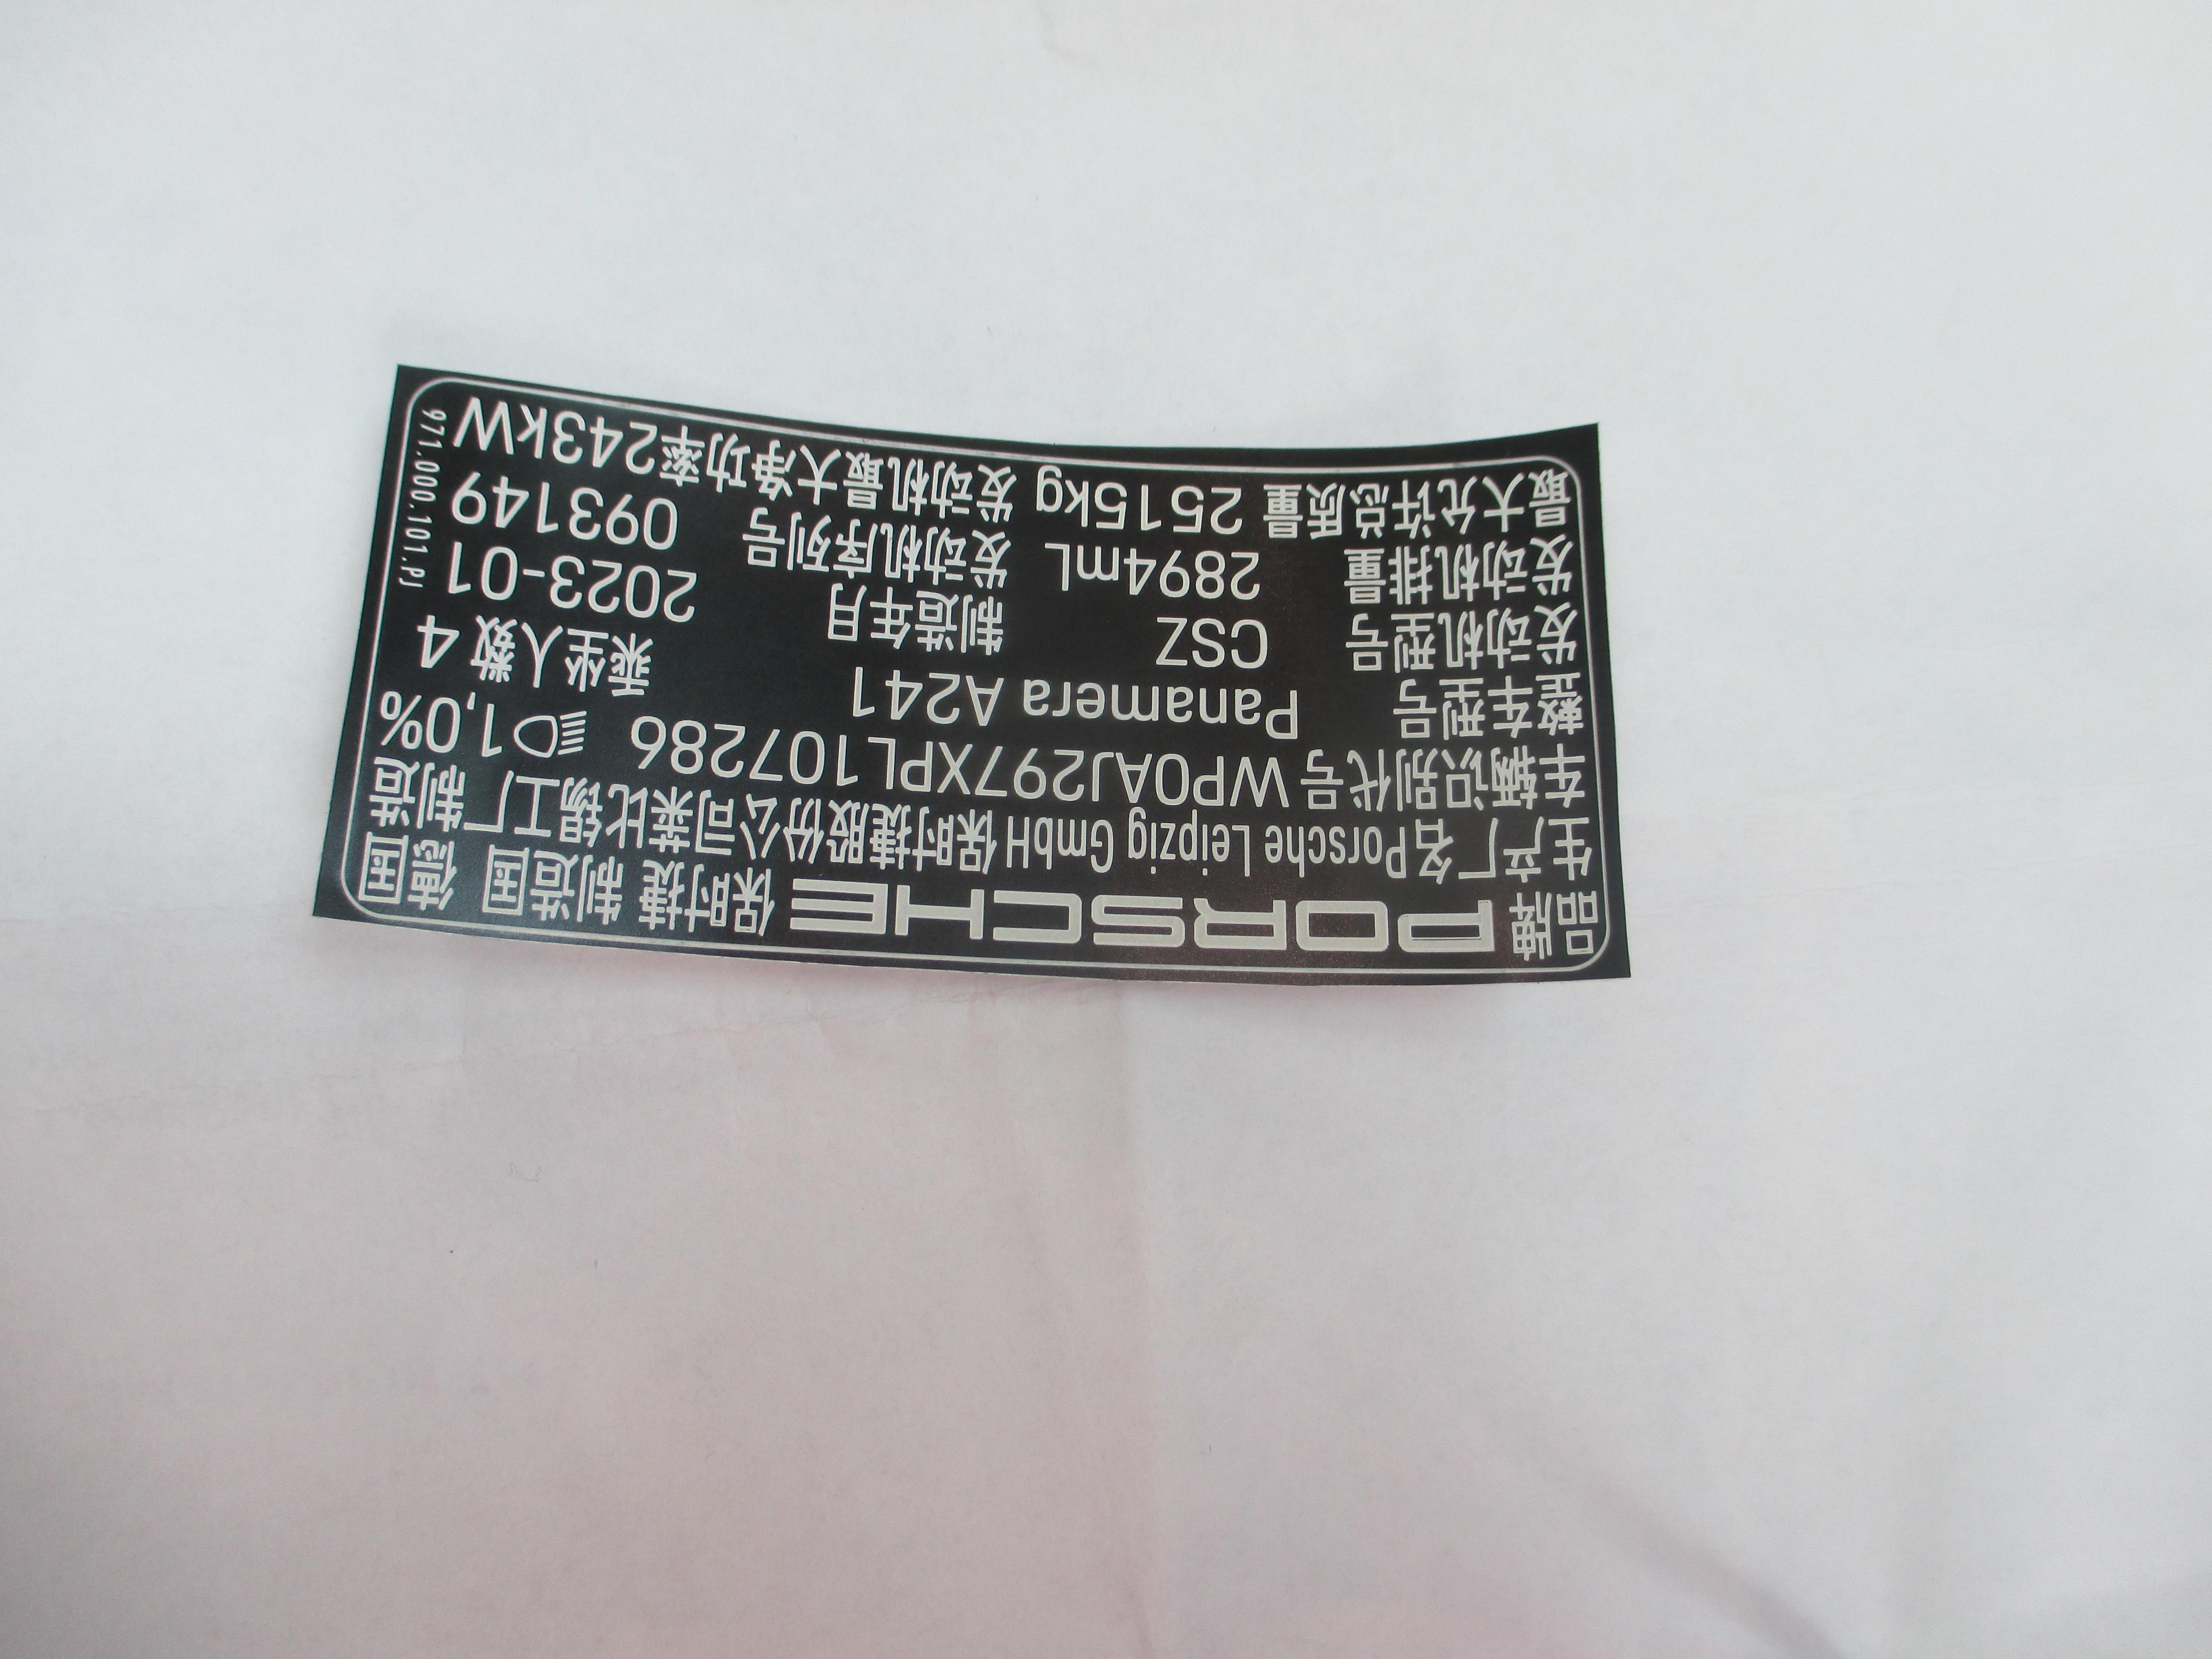Sign: (343, 375, 1611, 972)
